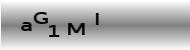1: (47, 24, 60, 38)
G: (33, 10, 48, 24)
M: (66, 22, 86, 36)
a: (20, 21, 32, 32)
l: (94, 12, 99, 25)
